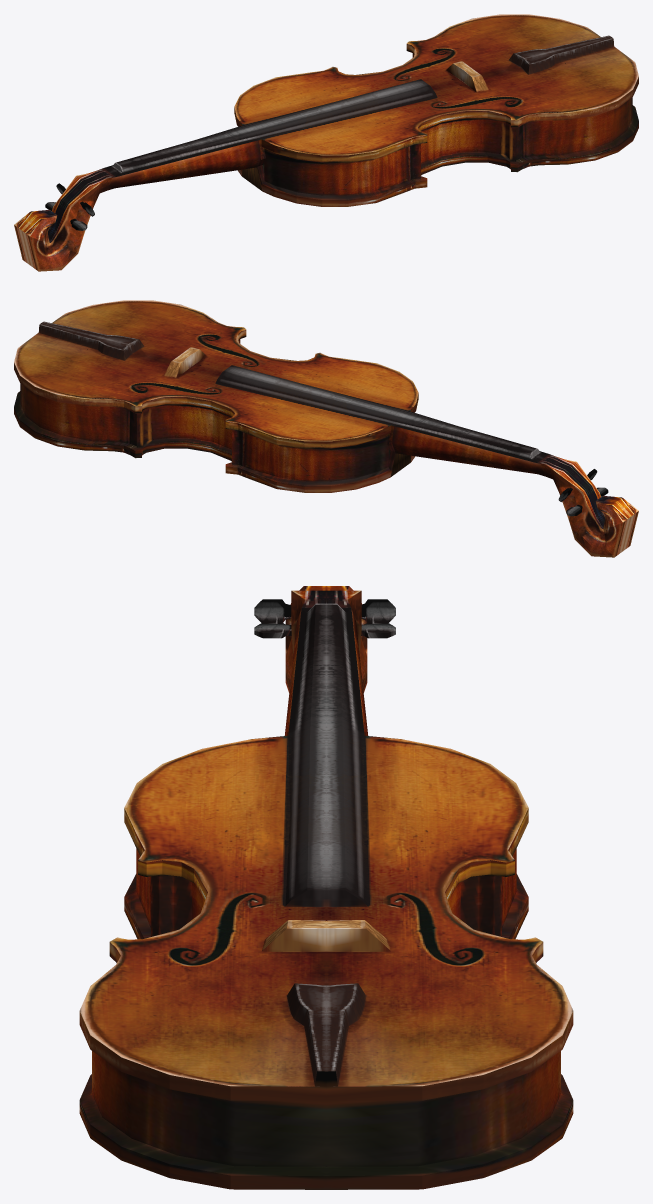
The model's file is Violin_3.fbx.
3 views of the same model, one above another, from view 1: azimuth 30°, elevation 25°; view 2: azimuth 150°, elevation 25°; view 3: azimuth 270°, elevation 25° (orthographic). The views are drawn at different scales.
Visible parts, largest first — view 1: pCube3; view 2: pCube3; view 3: pCube3.
Boxes of the visible parts, x1,y1,x2,y2 form: pCube3: [14, 14, 638, 271]; pCube3: [14, 300, 638, 557]; pCube3: [79, 586, 573, 1189].
Bounding box in the file's own units: 9.44 × 1.44 × 3.42.
